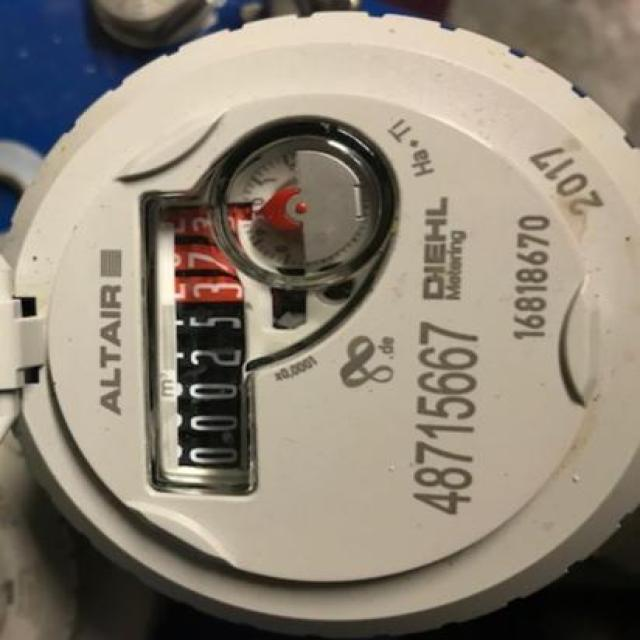gaz_meter: (12, 12, 640, 620)
indication: (144, 192, 257, 495)
